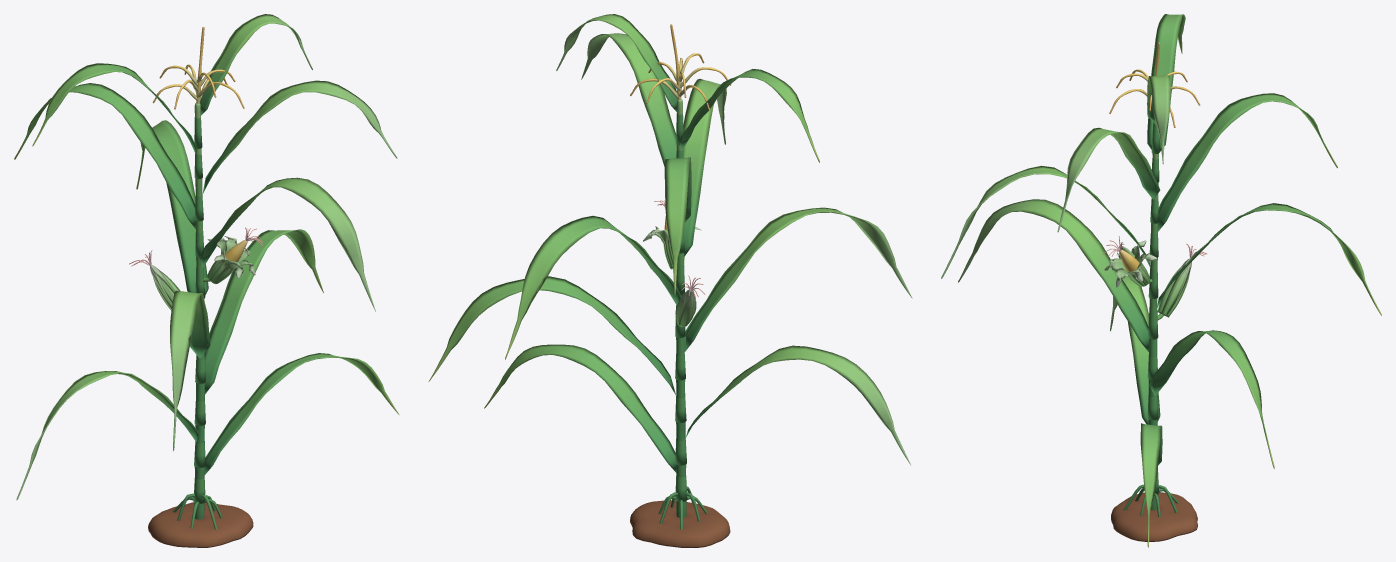
File: corn-plant.glb
3 renders of one model, left to right at view 1: azimuth 30°, elevation 25°; view 2: azimuth 150°, elevation 25°; view 3: azimuth 270°, elevation 25°, orthographic. The views are drawn at different scales.
Parts seen in each view (by area): view 1: corn-plant_body; view 2: corn-plant_body; view 3: corn-plant_body.
Boxes of the visible parts, x1=… form: corn-plant_body: x1=14, y1=14, x2=399, y2=547; corn-plant_body: x1=428, y1=14, x2=912, y2=547; corn-plant_body: x1=941, y1=14, x2=1381, y2=547.
Size of the model in its own units: 1.7 by 2 by 1.67.
Materials: 1 (1 with a texture image).
